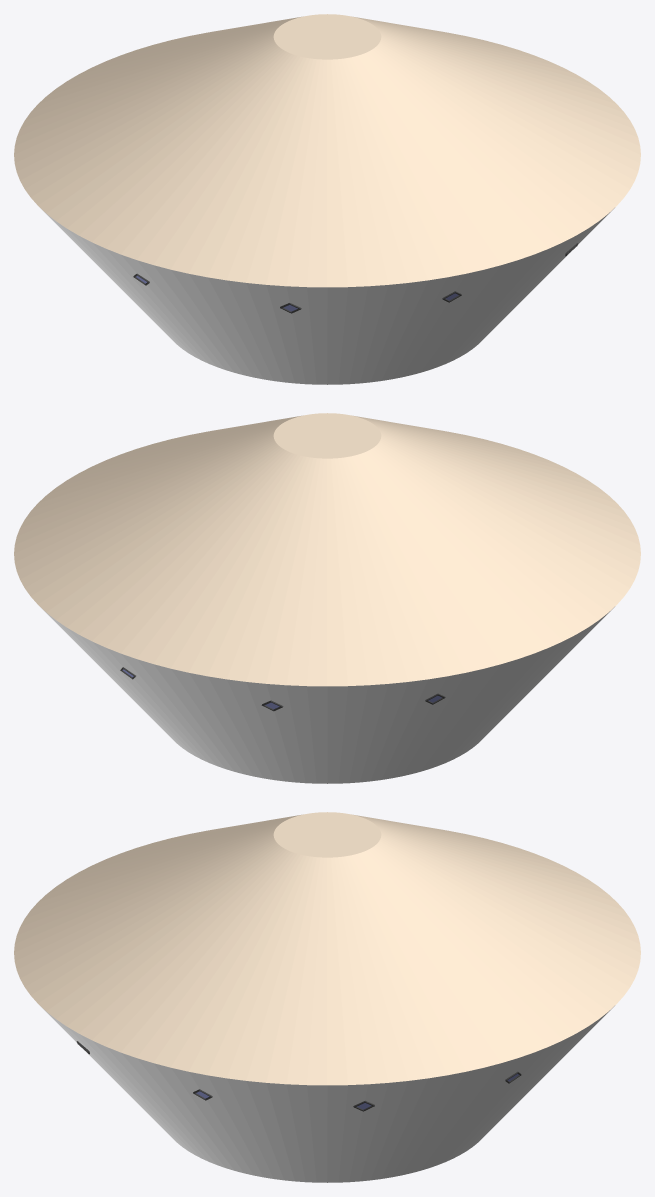
The picture shows the model from 3 angles, top to bottom: view 1: azimuth 30°, elevation 25°; view 2: azimuth 150°, elevation 25°; view 3: azimuth 270°, elevation 25°; orthographic projection.
Visible parts, largest first — view 1: Cylinder.005, Cylinder.006; view 2: Cylinder.005, Cylinder.006; view 3: Cylinder.005, Cylinder.006.
Boxes of the visible parts, box(x1,y1,x2,y2) form: Cylinder.005: box(14, 14, 640, 287); Cylinder.006: box(40, 208, 614, 384); Cylinder.005: box(14, 413, 640, 686); Cylinder.006: box(40, 607, 614, 783); Cylinder.005: box(14, 812, 640, 1085); Cylinder.006: box(40, 1006, 614, 1182).
Size of the model in its own units: 3.07 by 1.5 by 3.07.
